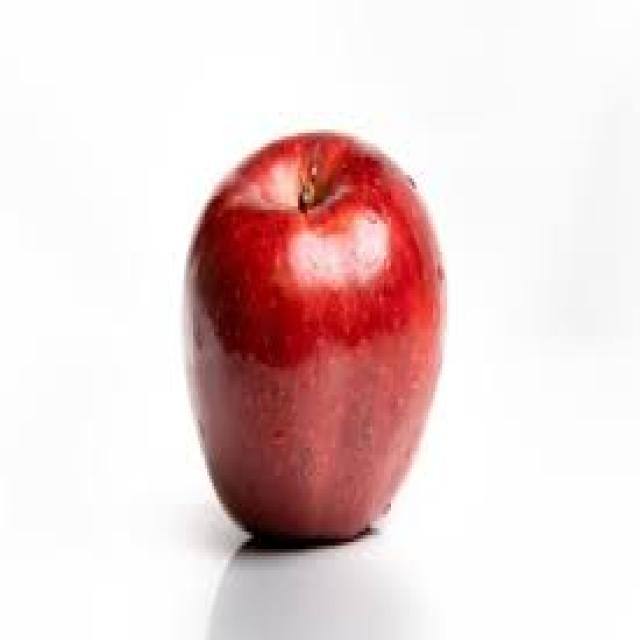non_orange: (155, 105, 472, 616)
